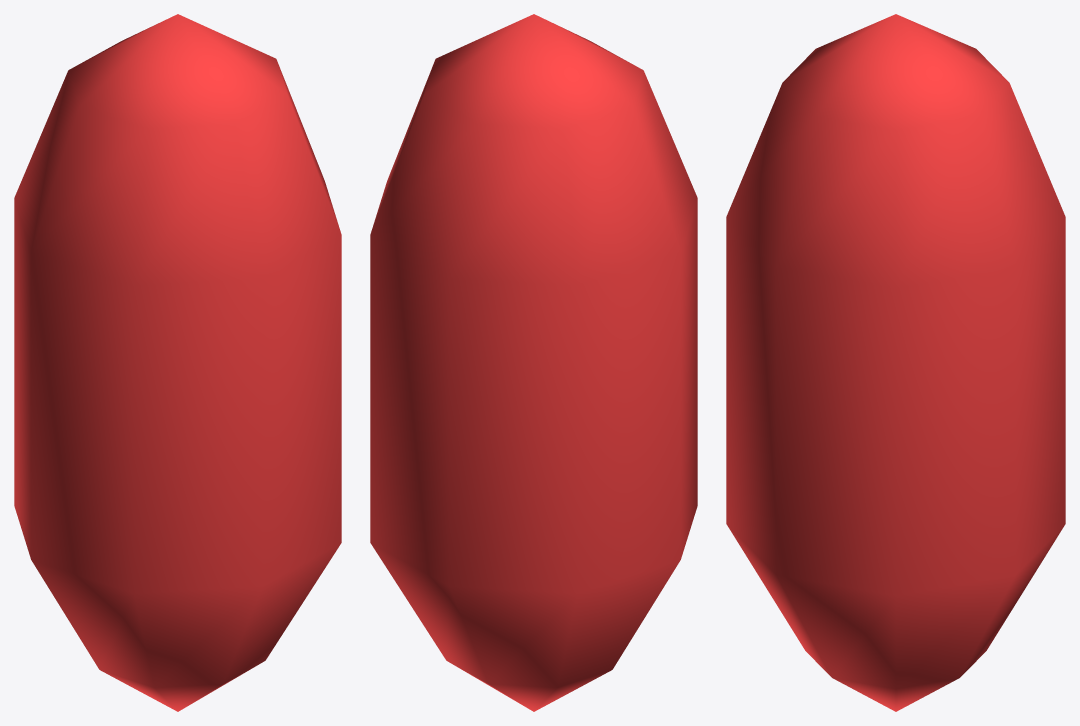
File: PlayerProjectile_Inner.fbx
3 views of the same model, side by side, from view 1: azimuth 30°, elevation 25°; view 2: azimuth 150°, elevation 25°; view 3: azimuth 270°, elevation 25° (orthographic).
Visible parts, largest first — view 1: PlayerProjectile_Inner; view 2: PlayerProjectile_Inner; view 3: PlayerProjectile_Inner.
Part boxes in pixels (x1,y1,x2,y2): PlayerProjectile_Inner: (14, 14, 341, 711); PlayerProjectile_Inner: (370, 14, 697, 711); PlayerProjectile_Inner: (726, 14, 1065, 711).
Size of the model in its own units: 65.6 by 149 by 65.6.
